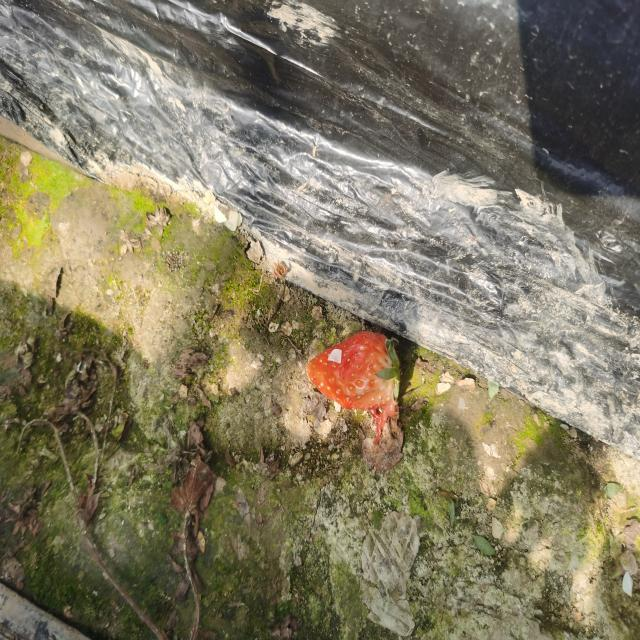strawberry: (307, 331, 400, 411)
